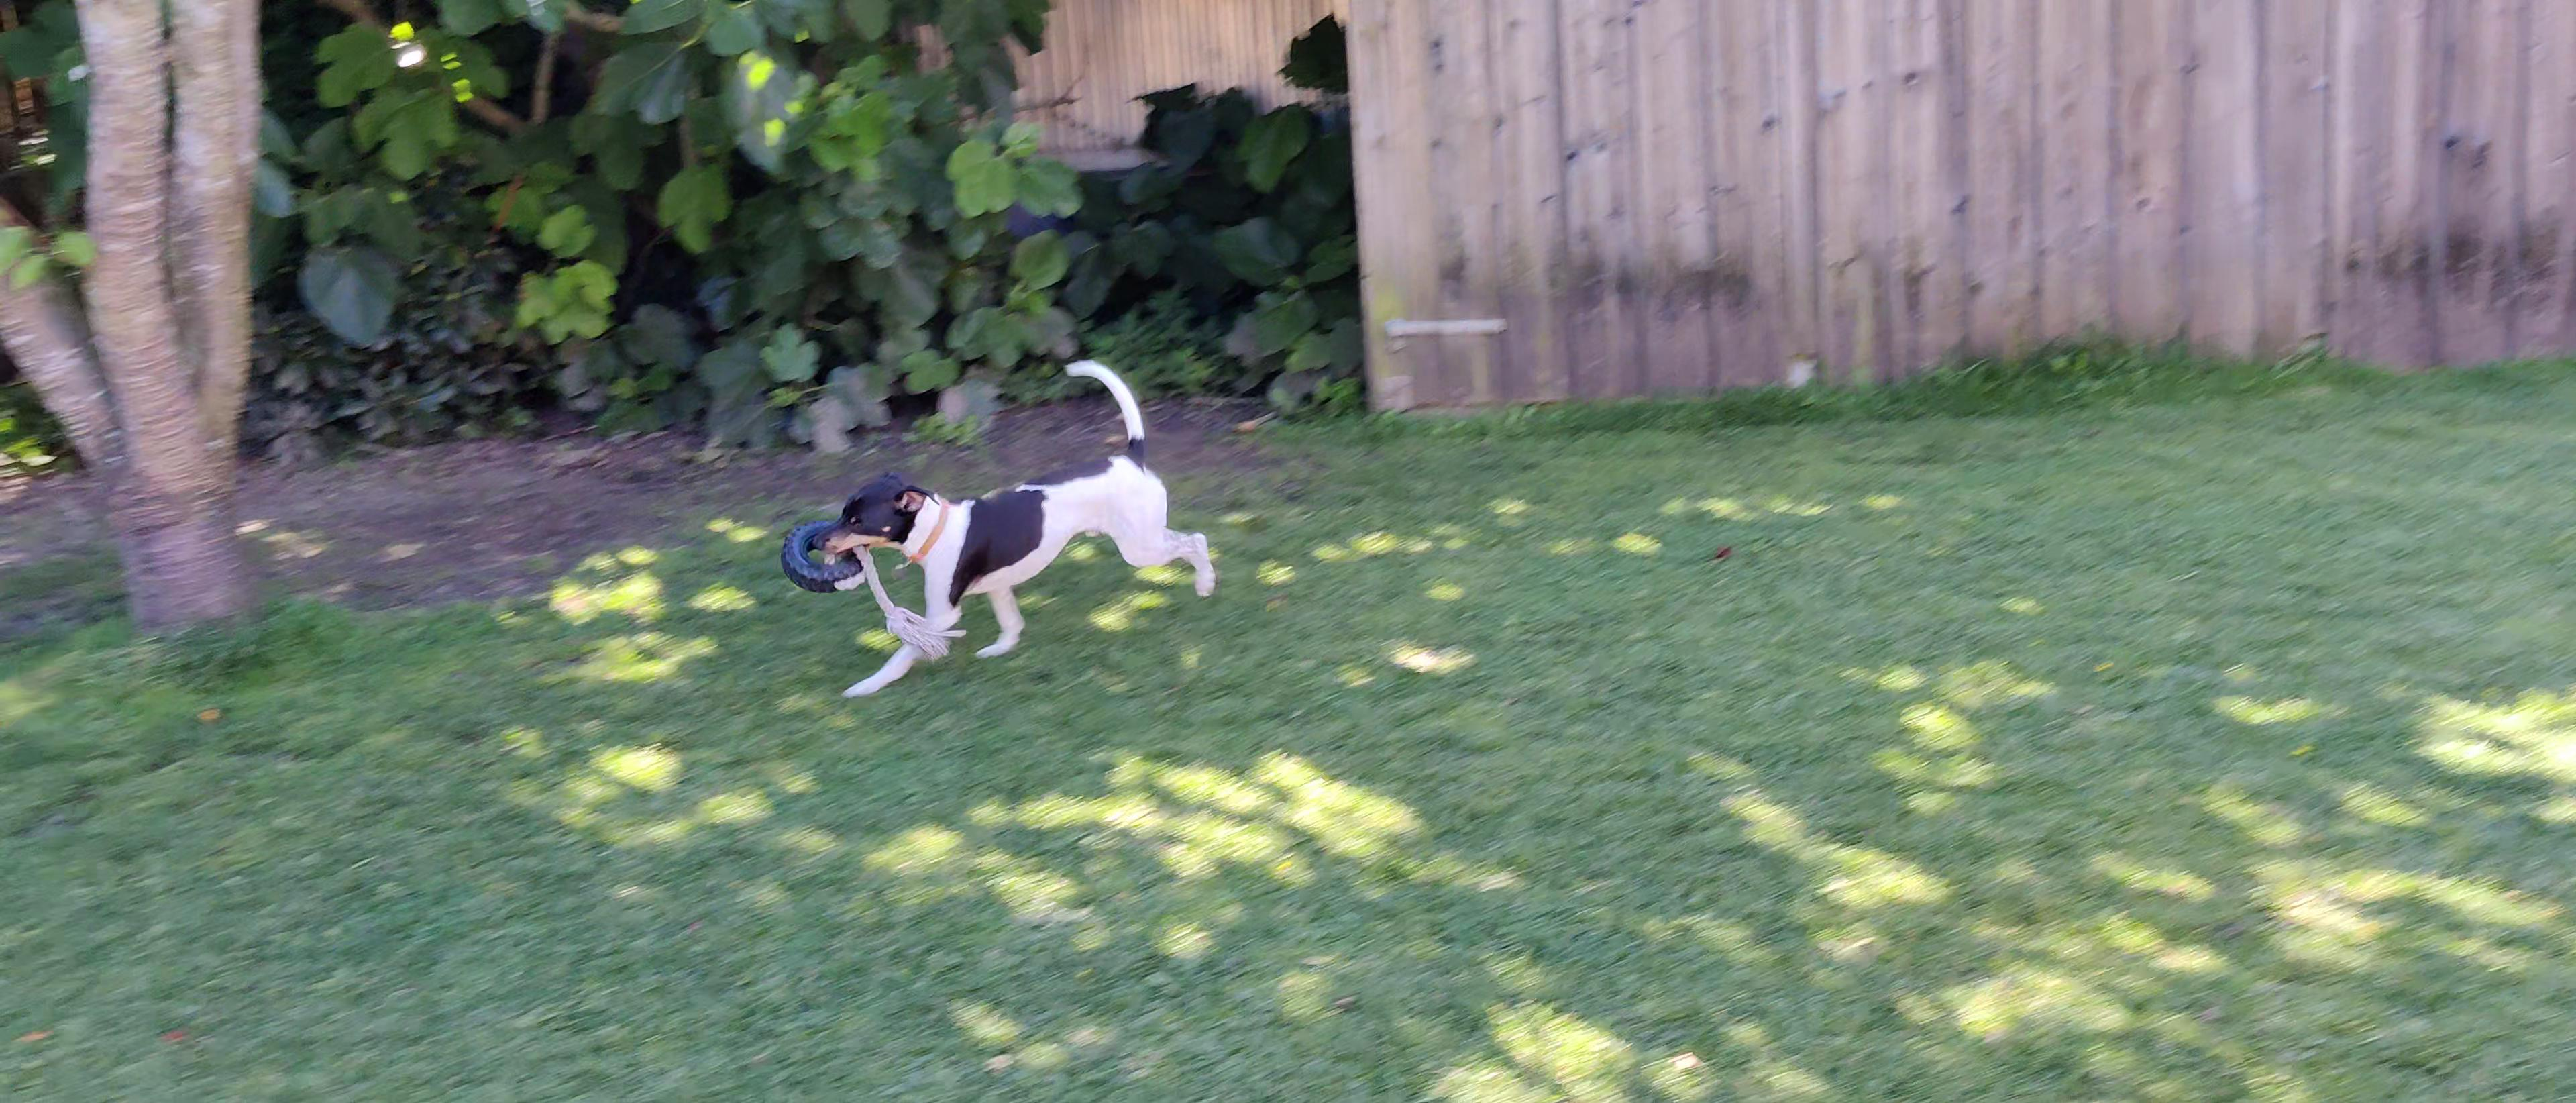Dog: (803, 352, 1232, 712)
